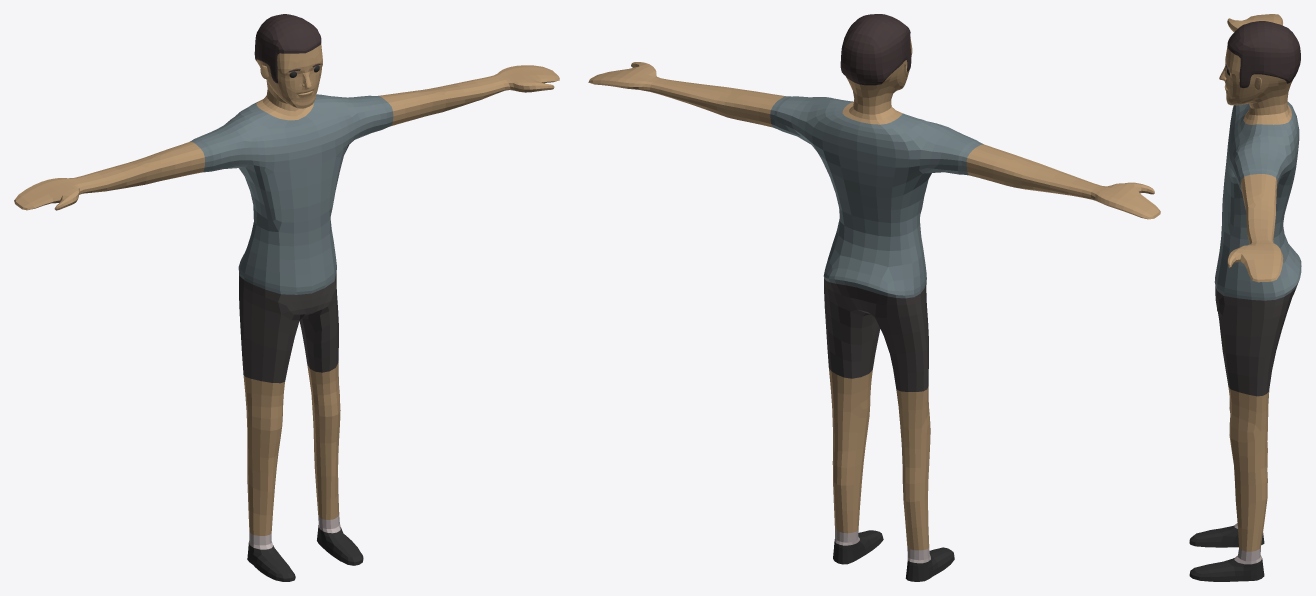
Rendered from dummy.glb.
The picture shows the model from 3 angles, left to right: view 1: azimuth 30°, elevation 25°; view 2: azimuth 150°, elevation 25°; view 3: azimuth 270°, elevation 25°; orthographic projection. The views are drawn at different scales.
Parts seen in each view (by area): view 1: BaseHuman; view 2: BaseHuman; view 3: BaseHuman.
Part boxes in pixels (<box>): BaseHuman: <box>14,14,559,581</box>; BaseHuman: <box>588,14,1160,581</box>; BaseHuman: <box>1189,14,1301,581</box>.
Size of the model in its own units: 5.16 by 4.84 by 0.9188.
